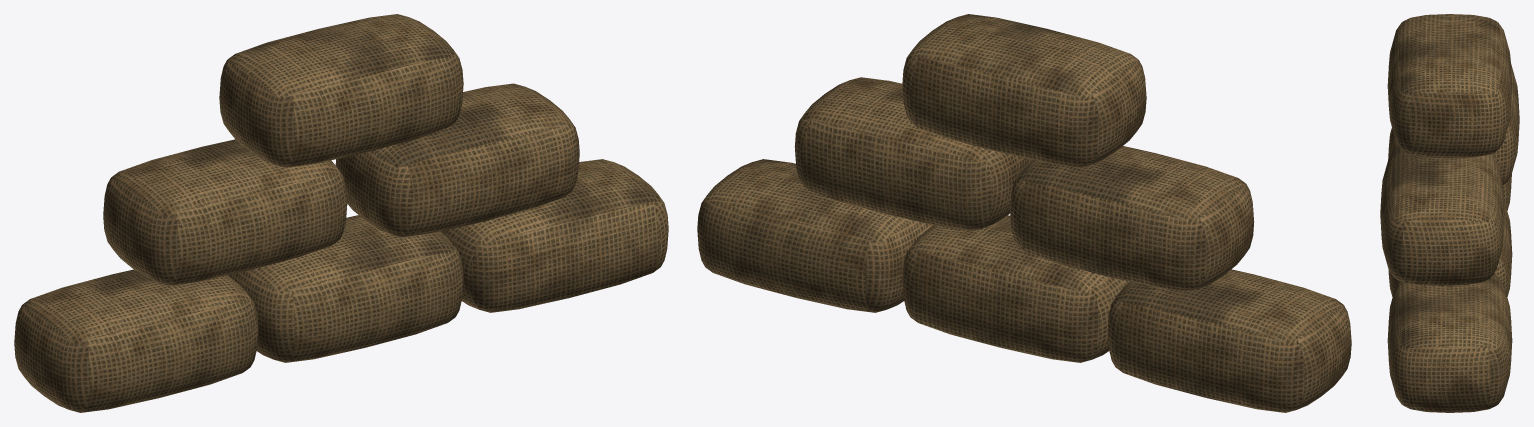
File: prop_sandbags.glb
The picture shows the model from 3 angles, left to right: view 1: azimuth 30°, elevation 25°; view 2: azimuth 150°, elevation 25°; view 3: azimuth 270°, elevation 25°; orthographic projection. The views are drawn at different scales.
Visible parts, largest first — view 1: Bag5, Bag0, Bag3, Bag4, Bag1, Bag2; view 2: Bag5, Bag3, Bag0, Bag2, Bag4, Bag1; view 3: Bag5, Bag4, Bag2, Bag3, Bag1, Bag0.
Boxes of the visible parts, x1,y1,x2,y2 form: Bag5: (219,14,463,167); Bag0: (14,269,258,412); Bag3: (103,139,347,285); Bag4: (335,83,579,237); Bag1: (228,215,463,362); Bag2: (441,159,668,312); Bag5: (902,14,1146,167); Bag3: (1010,146,1254,291); Bag0: (1107,269,1351,412); Bag2: (697,159,932,312); Bag4: (794,77,1032,230); Bag1: (902,215,1129,362); Bag5: (1387,14,1512,158); Bag4: (1380,147,1504,286); Bag2: (1387,274,1512,412); Bag3: (1396,64,1519,185); Bag1: (1388,200,1512,296); Bag0: (1388,128,1511,210).
Size of the model in its own units: 1.66 by 0.7557 by 0.3757.
Materials: 1 (1 with a texture image).
